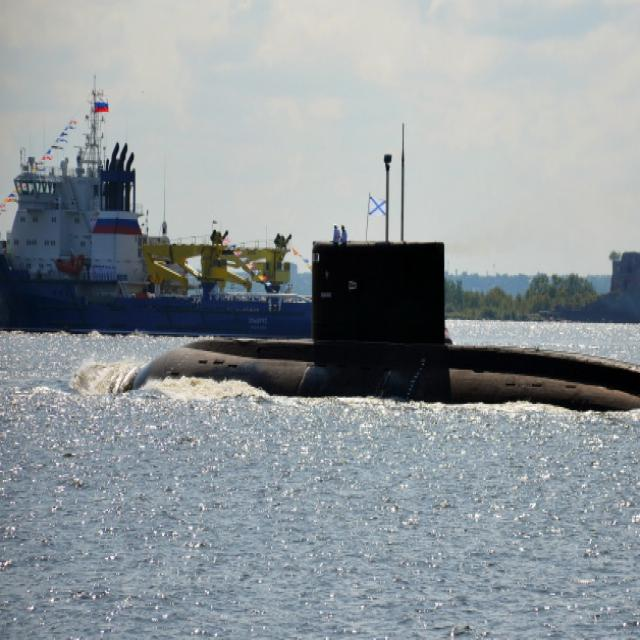submarine: (101, 216, 640, 429)
